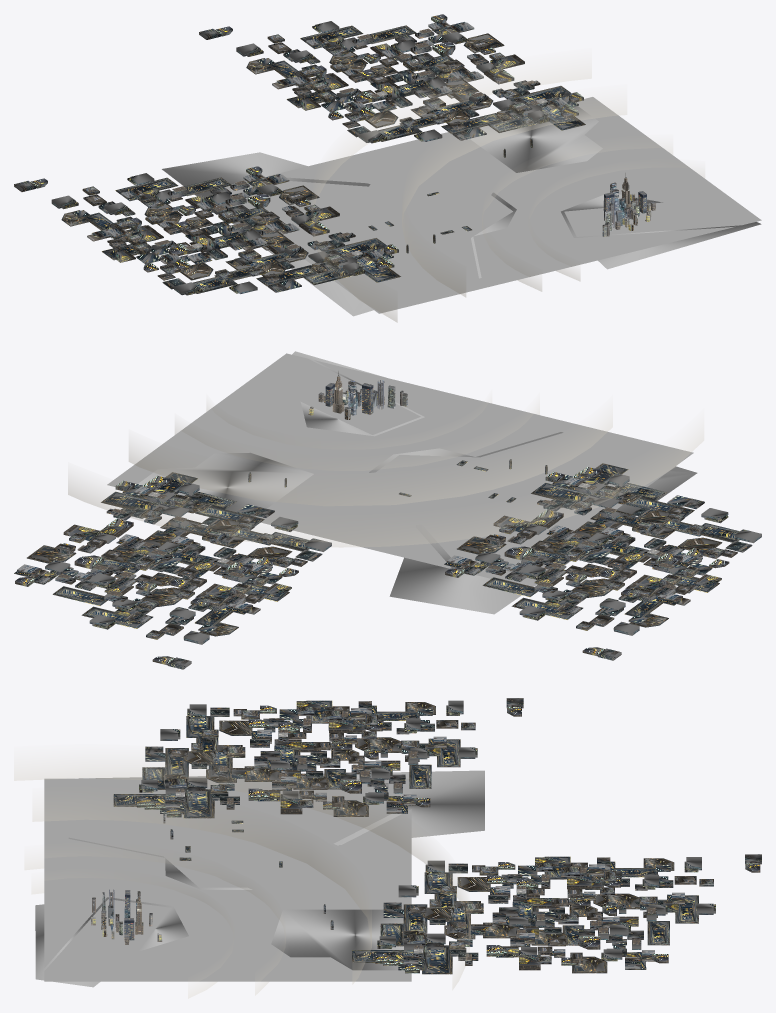
Rendered from city_night.glb.
3 renders of one model, top to bottom at view 1: azimuth 30°, elevation 25°; view 2: azimuth 150°, elevation 25°; view 3: azimuth 270°, elevation 25°, orthographic. The views are drawn at different scales.
Size of the model in its own units: 205 by 22 by 224.
7 materials, 4 textured.
